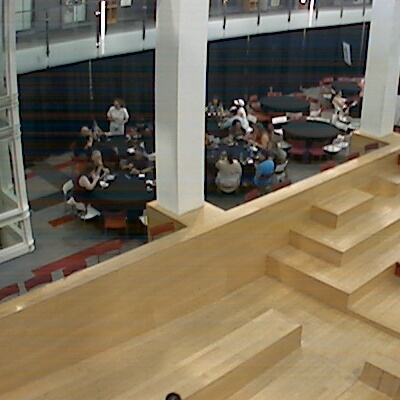head: (89, 149, 106, 164), (110, 96, 125, 110), (133, 145, 147, 159), (233, 97, 247, 110), (230, 117, 243, 130), (251, 123, 264, 135), (133, 116, 146, 128), (79, 125, 91, 137), (256, 150, 268, 161), (210, 95, 220, 105)
